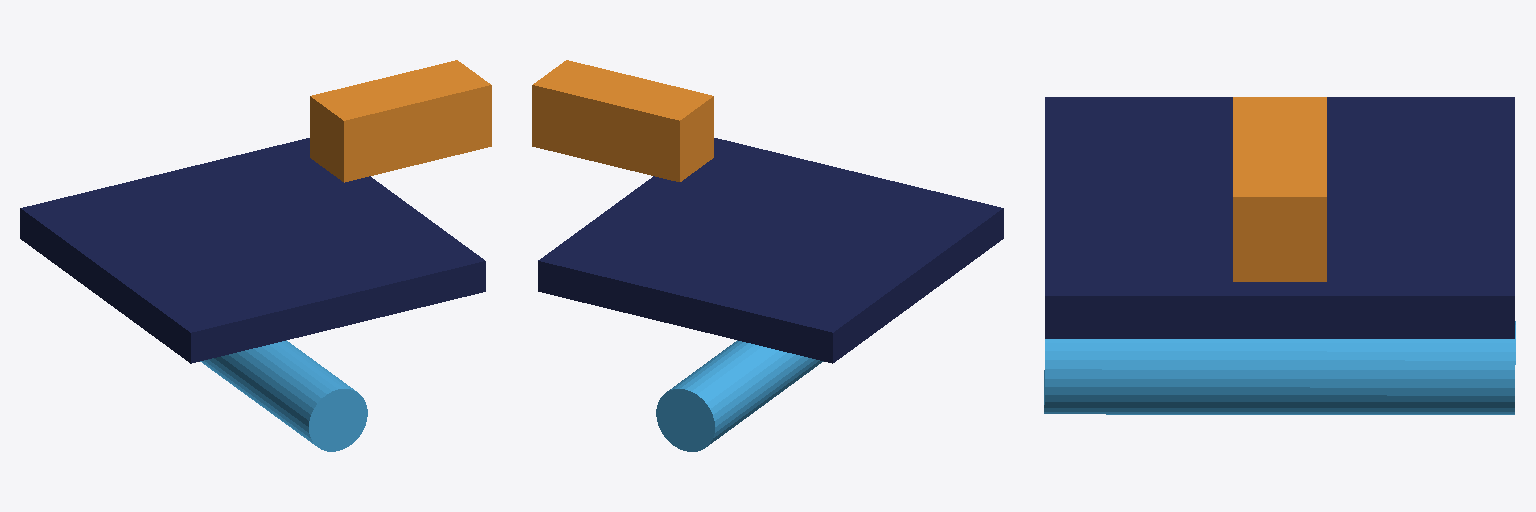
robot.urdf — bowl.urdf:
<?xml version="0.0" ?>
<robot name="bowl.urdf">

  <material name="yellow">
    <color rgba="1 1 0.4 1"/>
  </material>
  <material name="red">
    <color rgba="1 0 0 1"/>
  </material>
  <material name="blue">
    <color rgba=".17 .20 .38 1"/>
  </material>
  <material name="teal">
    <color rgba="0 .5 .5 1"/>
  </material>
  <material name="orange">
    <color rgba=".93 .6 .23 1"/>
  </material>

  <link name="world"/>

  <link name="hinge">
    <lateral_friction value="1.0"/>
    <rolling_friction value="0.0"/>
    <contact_cfm value="0.0"/>
    <contact_erp value="1.0"/>
    <inertial>
      <origin rpy="1.57 0 0" xyz="-0.5 0 0"/>
       <mass value=".25"/>
       <inertia ixx="1" ixy="0" ixz="0" iyy="1" iyz="0" izz="1"/>
    </inertial>
    <visual>
      <origin rpy="1.57 0 0" xyz="-0.5 0 0"/>
      <geometry>
        <cylinder radius="0.1" length="1"/>
      </geometry>
       <material name="green"/>
    </visual>
    <collision>
      <origin rpy="1.57 0 0" xyz="-0.5 0 0"/>
      <geometry>
        <cylinder radius="0.05" length="2"/>
      </geometry>
    </collision>
  </link>

  <link name="lid">
    <lateral_friction value="1.0"/>
    <rolling_friction value="0.0"/>
    <contact_cfm value="0.0"/>
    <contact_erp value="1.0"/>
    <inertial>
      <origin rpy="0 0 0" xyz="-0.5 0 0"/>
       <mass value=".25"/>
       <inertia ixx="1" ixy="0" ixz="0" iyy="1" iyz="0" izz="1"/>
    </inertial>
    <visual>
      <origin rpy="0 0 0" xyz="-0.5 0 0"/>
      <geometry>
        <box size="1 1 .1"/>
      </geometry>
       <material name="blue"/>
    </visual>
    <collision>
      <origin rpy="0 0 0" xyz="-0.5 0 0"/>
      <geometry>
        <box size="1 1 .1"/>
      </geometry>
    </collision>
  </link>

  <link name="handle">
    <lateral_friction value="1.0"/>
    <rolling_friction value="0.0"/>
    <contact_cfm value="0.0"/>
    <contact_erp value="1.0"/>
    <inertial>
      <origin rpy="0 0 0" xyz="0.0 0.0 0.2"/>
       <mass value=".1"/>
       <inertia ixx="1" ixy="0" ixz="0" iyy="1" iyz="0" izz="1"/>
    </inertial>
    <visual>
      <origin rpy="0 0 0" xyz="0 0 0.2"/>
      <geometry>
        <box size="0.5 0.2 .2"/>
      </geometry>
       <material name="orange"/>
    </visual>
    <collision>
      <origin rpy="0 0 0" xyz="0 0 0.2"/>
      <geometry>
        <box size="0.5 0.2 .2"/>
      </geometry>
    </collision>
  </link>

  <joint name="base_joint" type="fixed">
    <parent link="world"/>
    <child link="hinge"/>
  </joint>

<!--   <joint name="base_hinge_joint" type="fixed">
    <origin rpy="0 0 0" xyz="0 0 0"/>
    <parent link="base"/>
    <child link="hinge"/>
  </joint> -->

  <joint name="lid_joint" type="revolute">
    <origin rpy="0 0 0" xyz="0 0 0.35"/>
    <parent link="hinge"/>
    <child link="lid"/>
    <axis xyz="0 1 0"/>
    <limit effort="50" lower="0" upper="1" velocity="50"/>
  </joint>

  <joint name="handle_joint" type="fixed">
    <origin rpy="0 0 0" xyz="0 0 0.1"/>
    <parent link="lid"/>
    <child link="handle"/>
  </joint>

</robot>

--- Facts derived from the render (not from the file) ---
3 views of the same robot in one strip: view 1: azimuth 30°, elevation 25°; view 2: azimuth 150°, elevation 25°; view 3: azimuth 270°, elevation 25° (orthographic).
Model bowl.urdf with 4 links and 3 joints (1 revolute, 2 fixed), rooted at world, posed all joints at 0.
Visible links, largest first — view 1: lid, handle, hinge; view 2: lid, handle, hinge; view 3: lid, hinge, handle.
Boxes of the visible links, x1,y1,x2,y2 form: lid: [20, 138, 485, 363]; handle: [310, 60, 491, 182]; hinge: [200, 340, 367, 451]; lid: [538, 138, 1003, 363]; handle: [532, 60, 713, 181]; hinge: [656, 340, 823, 451]; lid: [1045, 97, 1514, 338]; hinge: [1044, 321, 1515, 414]; handle: [1233, 97, 1326, 281].
Bounding box of the posed robot: 1.25 × 1 × 0.8504 m (x, y, z).
Geometry: primitives only (box / cylinder / sphere), no mesh files.